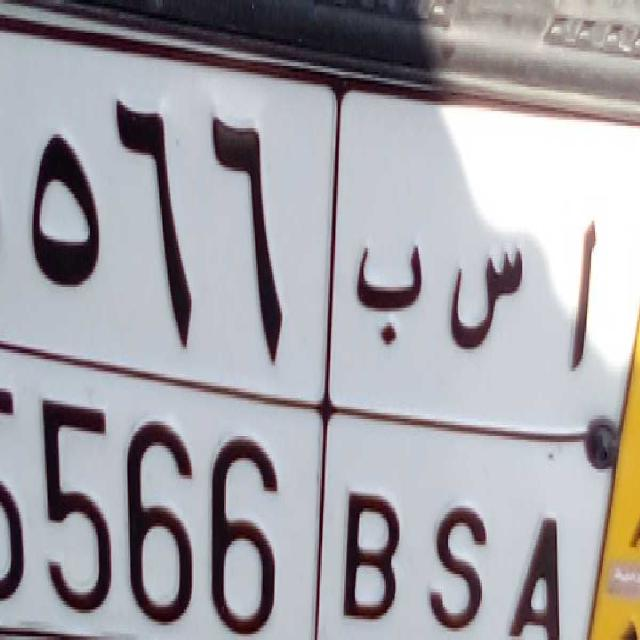license_plate: (3, 364, 604, 640)
